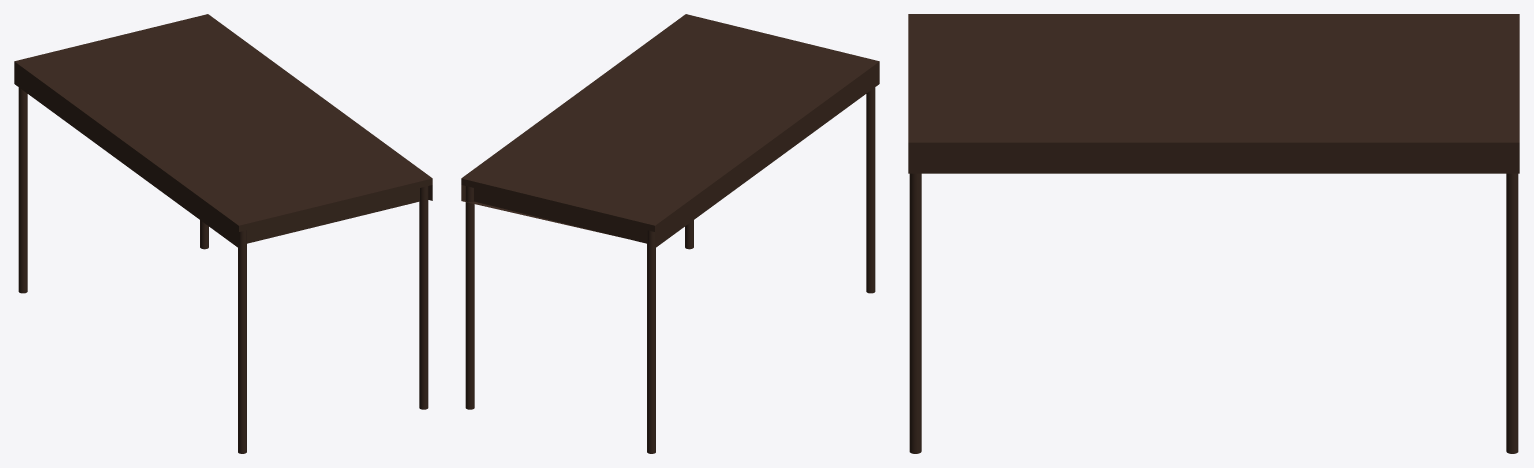
The model's file is desk.fbx.
3 renders of one model, left to right at view 1: azimuth 30°, elevation 25°; view 2: azimuth 150°, elevation 25°; view 3: azimuth 270°, elevation 25°, orthographic. The views are drawn at different scales.
Parts seen in each view (by area): view 1: Cube.001; view 2: Cube.001; view 3: Cube.001.
Boxes of the visible parts, bbox=[...] form: Cube.001: bbox=[14, 14, 432, 453]; Cube.001: bbox=[461, 14, 879, 453]; Cube.001: bbox=[908, 14, 1519, 453].
Size of the model in its own units: 1708 by 1934 by 3427.
